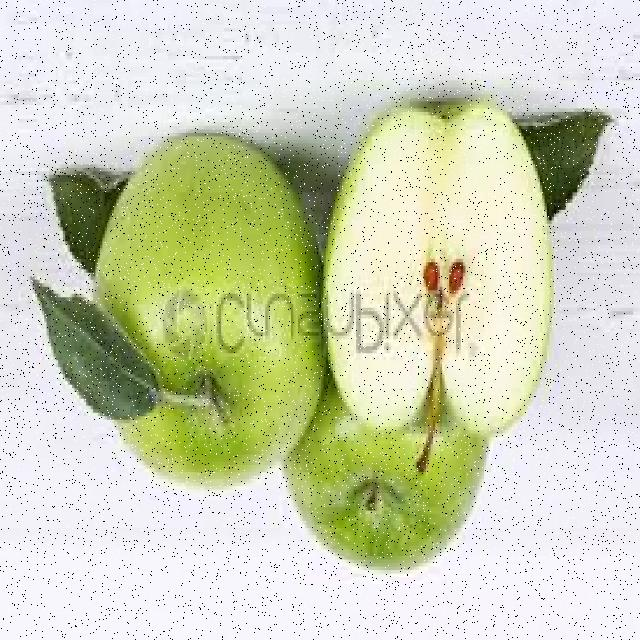Apple: (91, 130, 322, 490), (331, 95, 554, 464), (287, 411, 488, 570)
